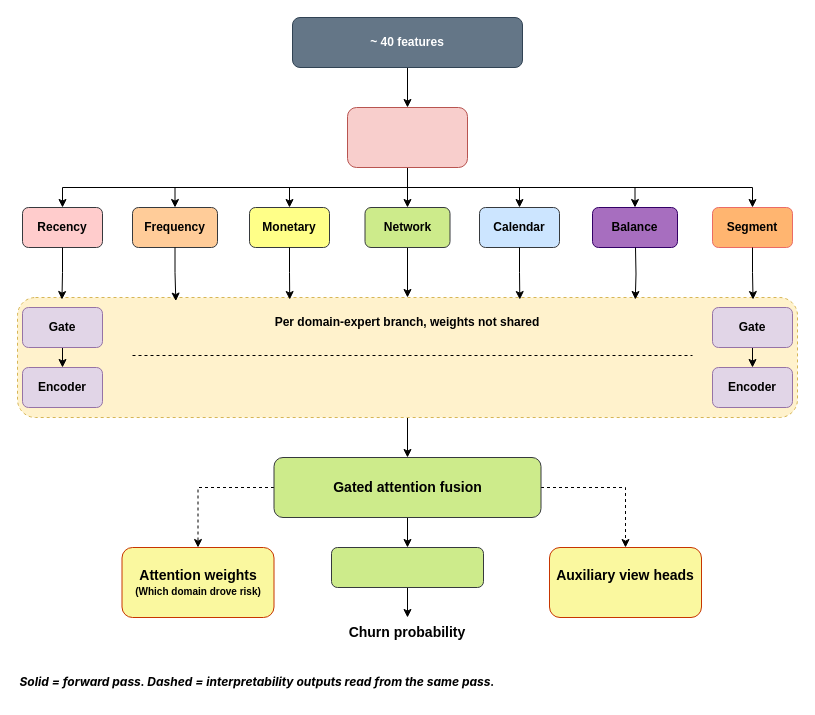
Image size: 815x715. Some labels were removed from this diagram. The shapes that lost their labels are listed below. From the top down, each one's box as (x1, y1, x2, y2) in pixels, then its label:
(346, 106, 468, 168): Domain-wise splitting
(330, 546, 484, 588): Prediction
